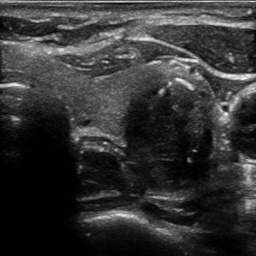mass: (121, 81, 212, 189)
